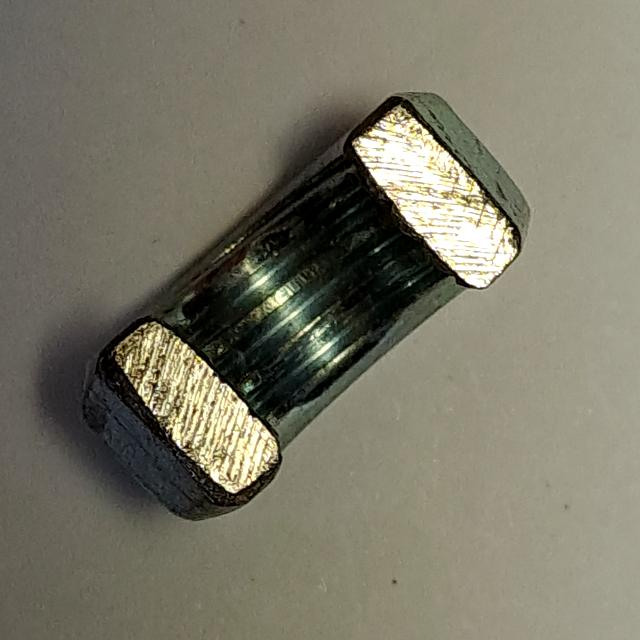Side-Fracture: (62, 83, 546, 539)
